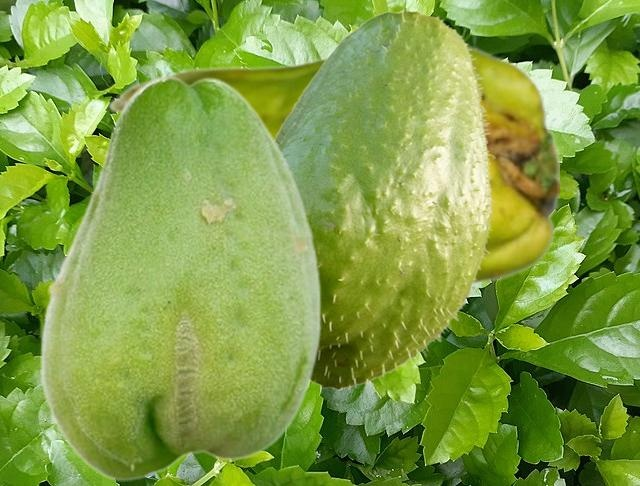sayote: (38, 74, 321, 480), (106, 41, 558, 286), (275, 8, 494, 394)
